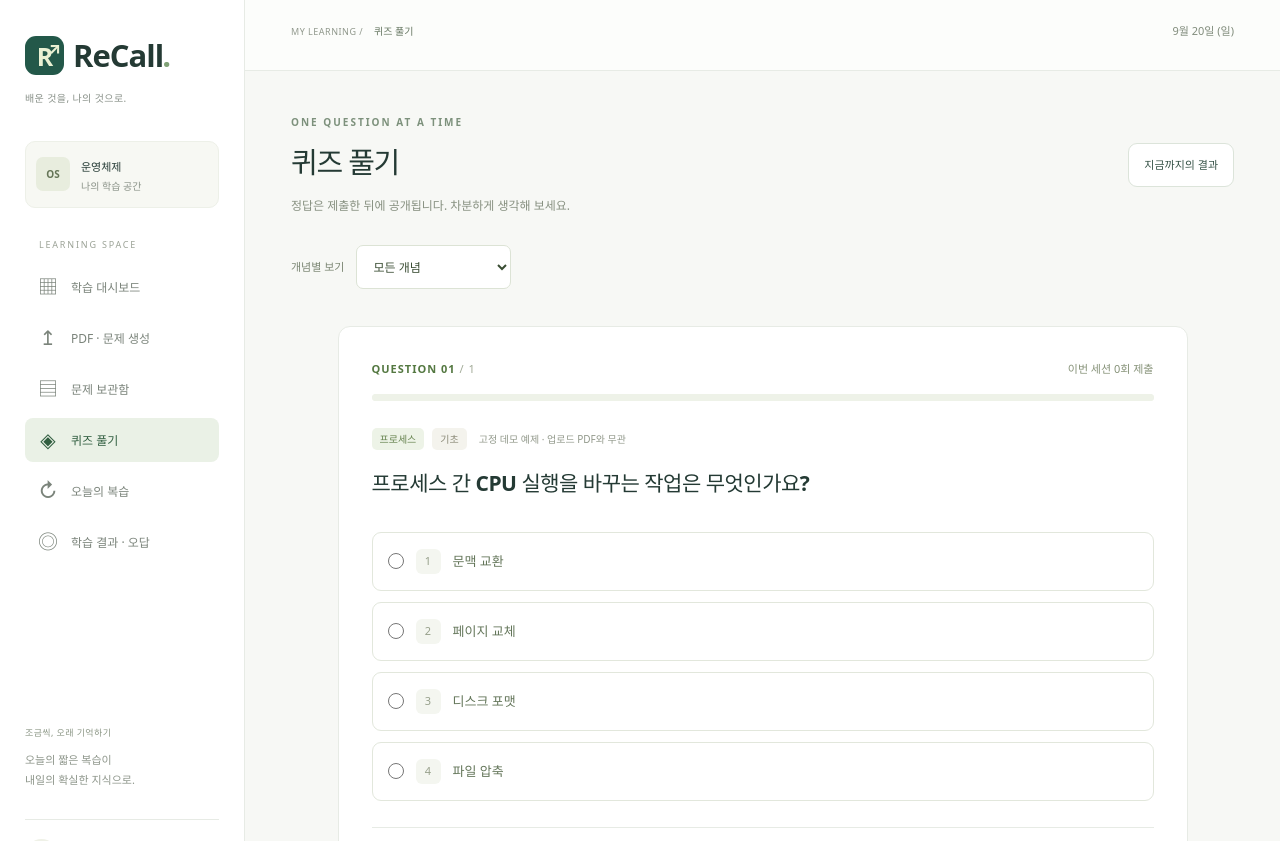
ReCall real API workflows › reuses idempotency keys after uncertain submission and prevents duplicate clicks
Expected: the heading "프로세스 간 CPU 실행을 바꾸는 작업은 무엇인가요?" is shown, [372, 469, 809, 497]
Click the radio button labelled "1 문맥 교환" at (396, 561), box [388, 553, 404, 569]
(page scrolled)
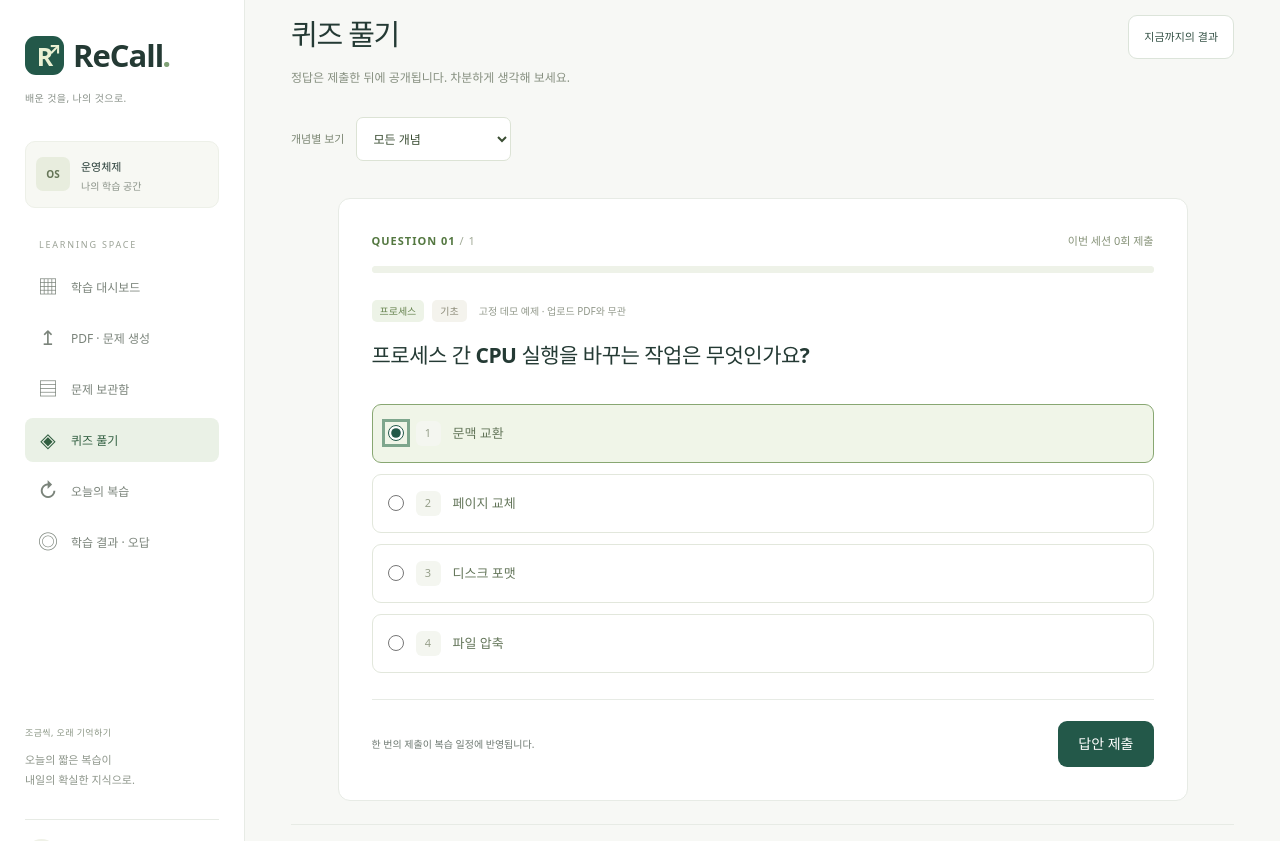
Click the button "답안 제출" at (1106, 744), box [1058, 721, 1154, 767]
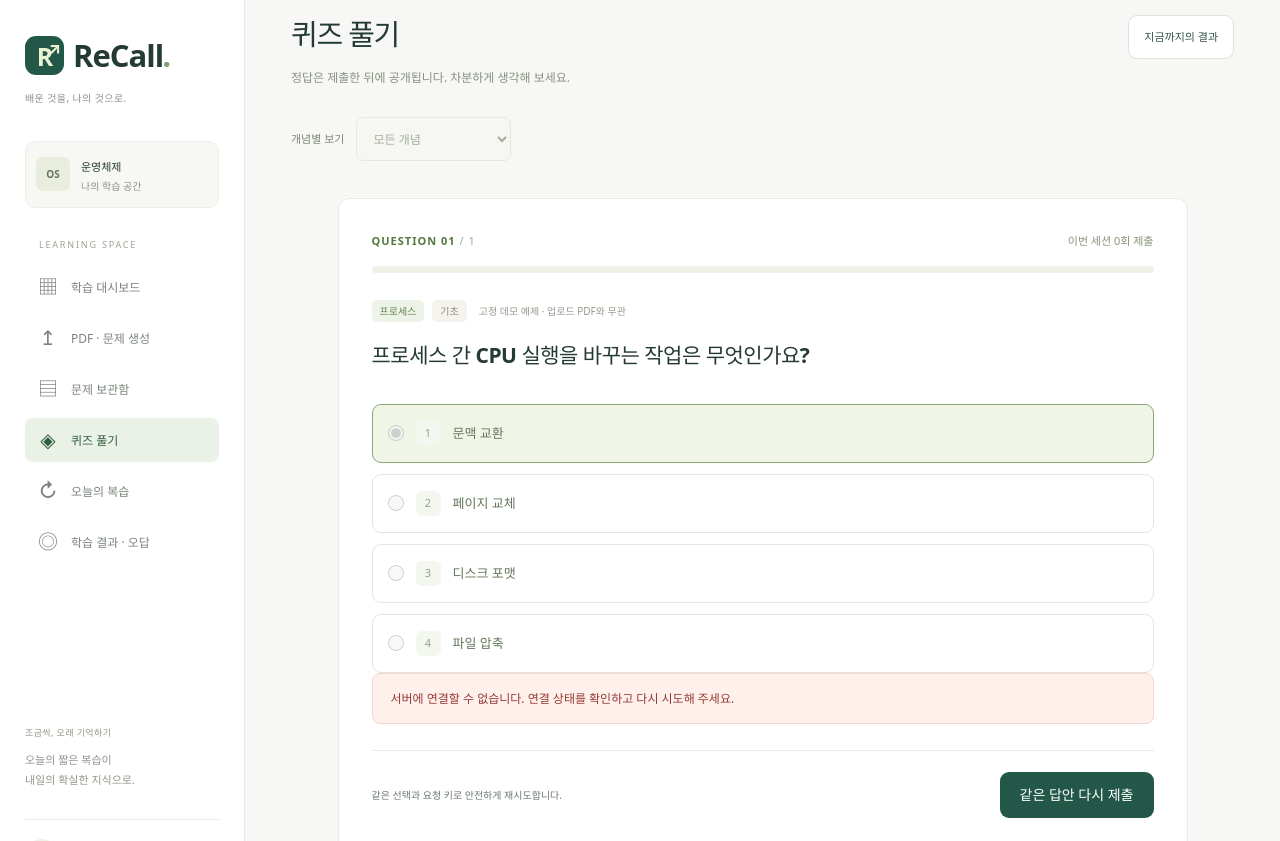
Expected: the radio button labelled "2 페이지 교체" is disabled, [388, 495, 404, 511]
Expected: the button "같은 답안 다시 제출" is shown
Double-click the button "같은 답안 다시 제출" at (1076, 795), box [1000, 772, 1154, 818]
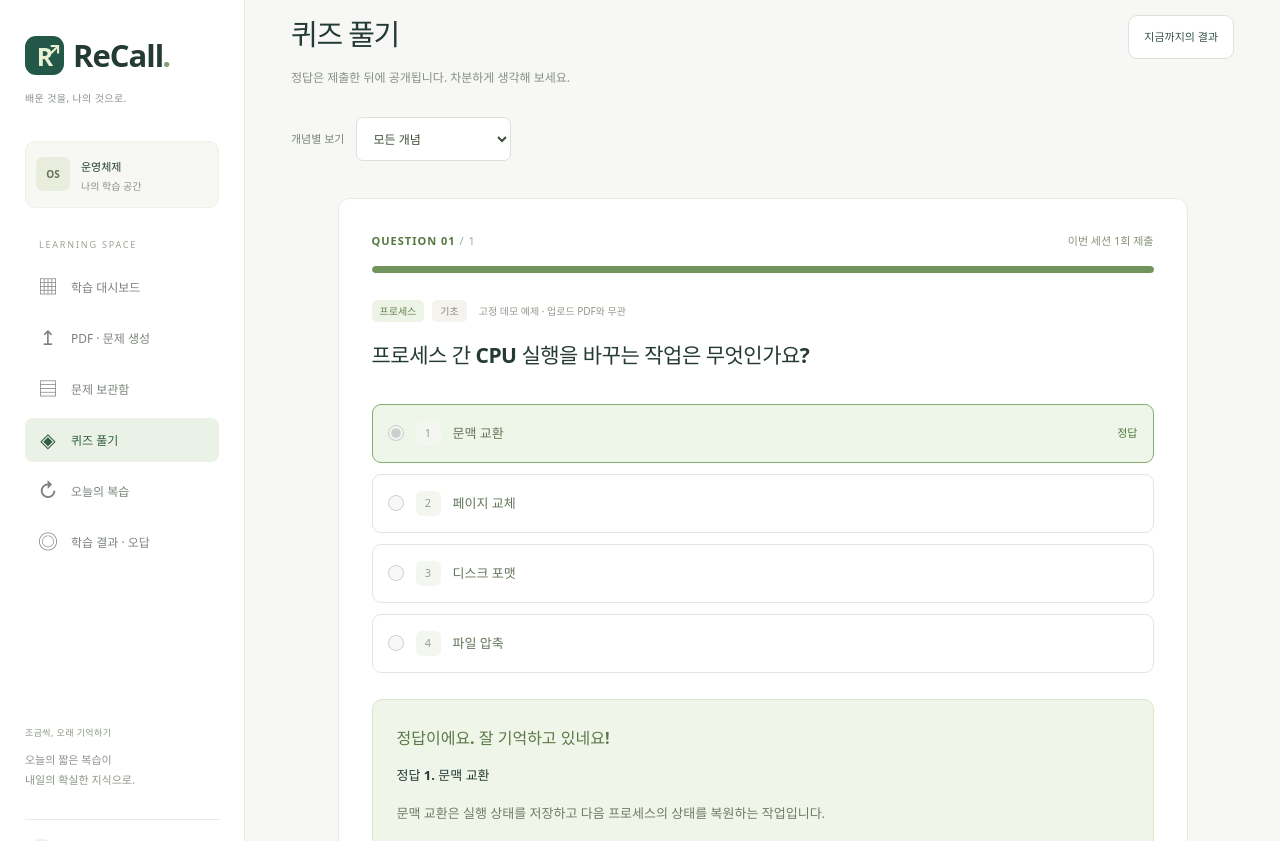
Expected: the text "문맥 교환은 실행 상태를 저장하고 다음 프로세스의 상태를 복원하는 작업입니다." is shown, [396, 804, 825, 822]
